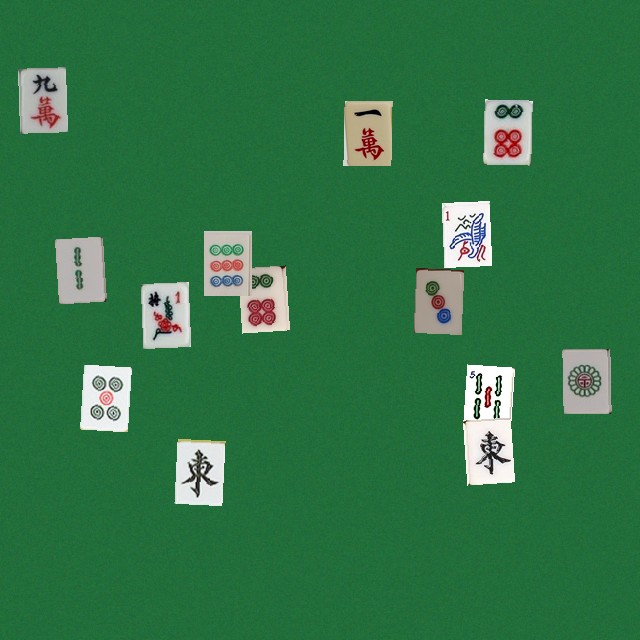tile: (140, 282, 188, 347), (80, 364, 128, 429), (237, 265, 285, 330), (562, 348, 610, 413), (203, 230, 251, 295), (54, 236, 102, 301), (462, 364, 510, 429), (483, 99, 531, 164), (441, 201, 489, 266), (343, 100, 391, 165), (413, 267, 461, 332), (174, 438, 222, 503), (17, 67, 65, 132), (462, 417, 510, 482)
